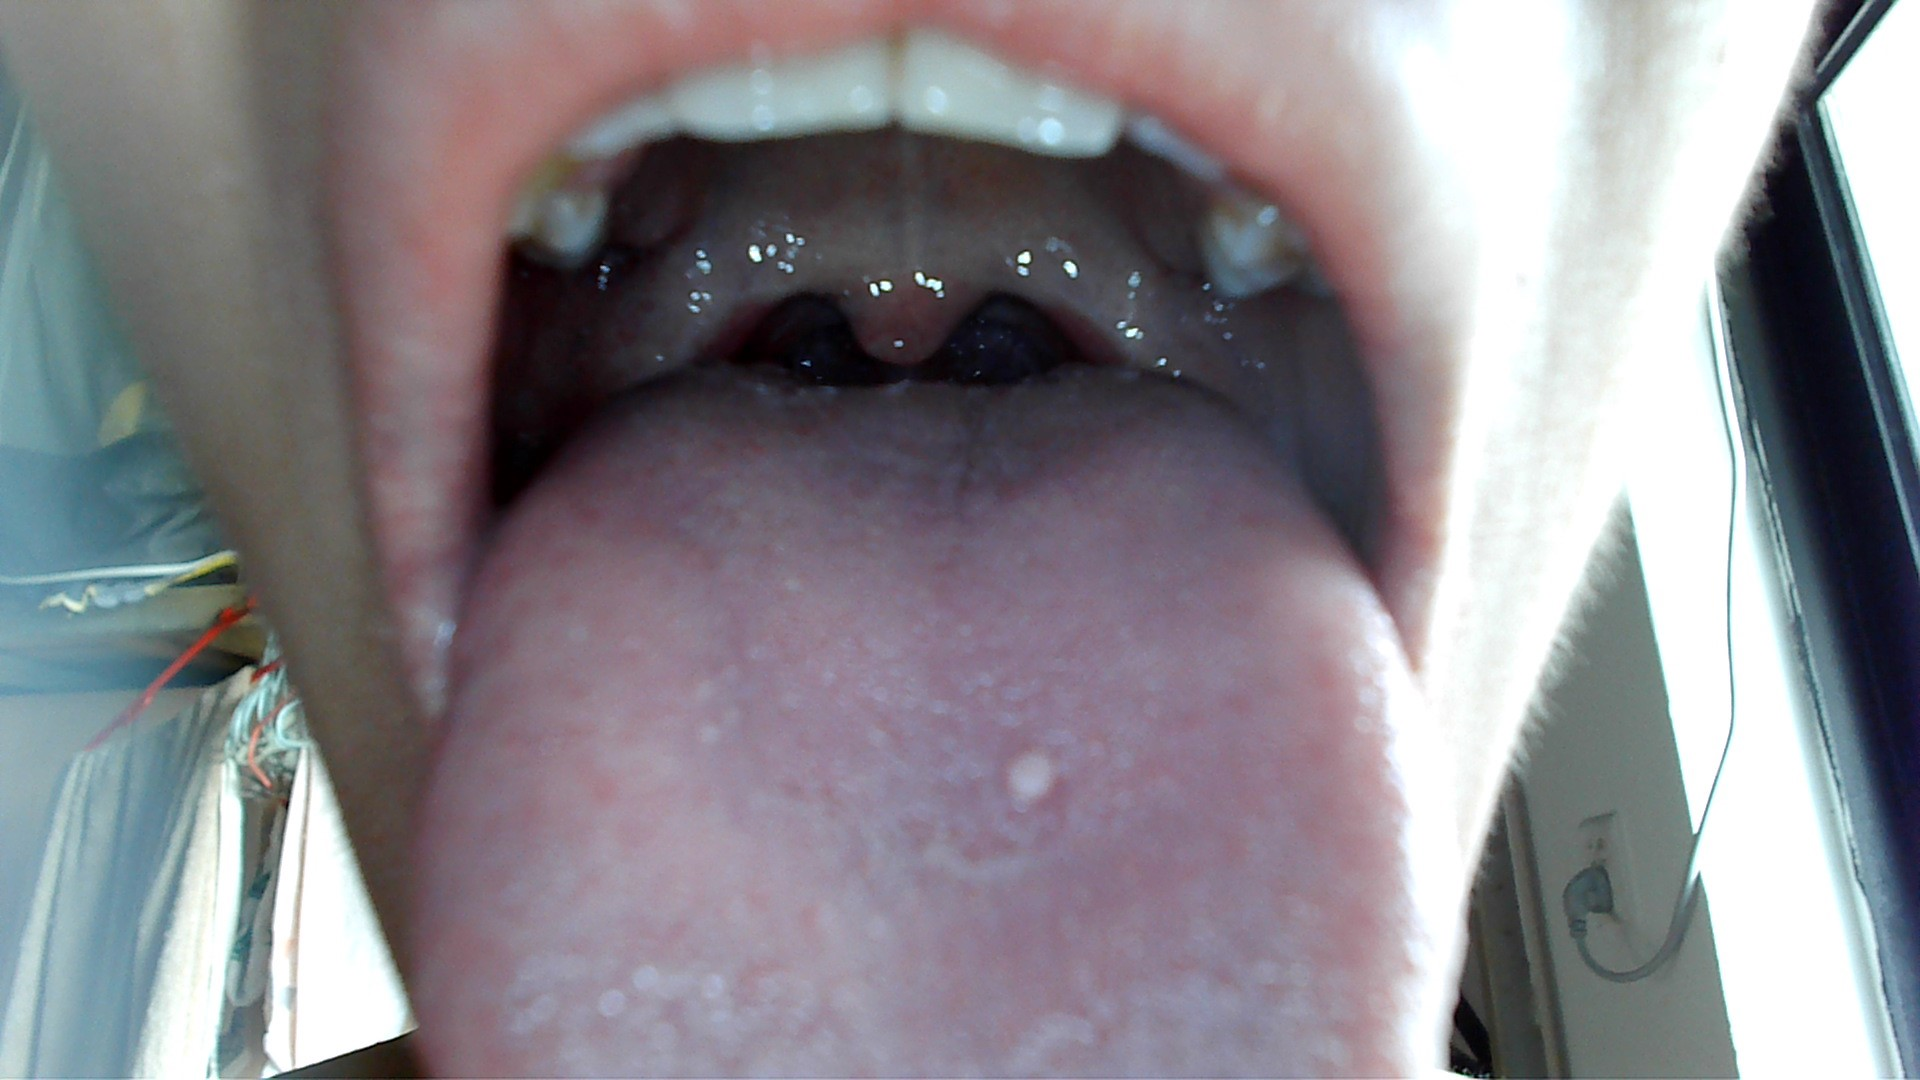throat: (585, 276, 770, 376), (1050, 216, 1158, 372)
